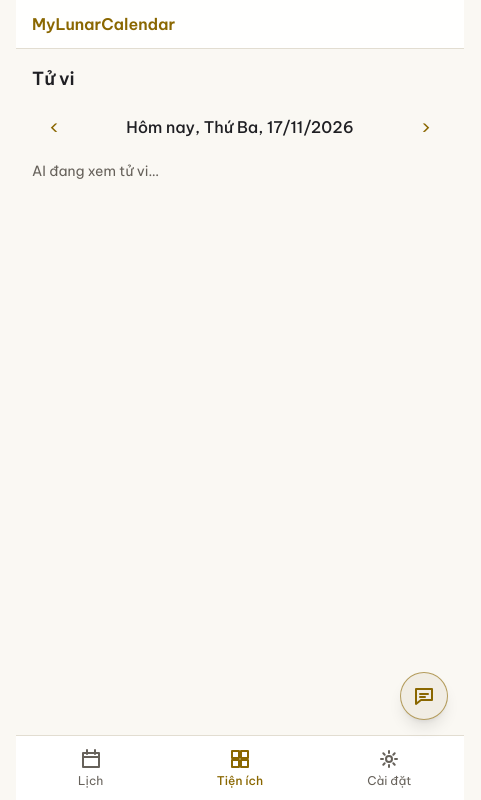
Test case: tab Tử vi (HORO-UC01) › kết quả về muộn của ngày cũ không ghi đè ngày đang xem (R-UI-02); lỗi có Thử lại
Click the button named "Ngày sau": (426, 127) [404,105,448,149]
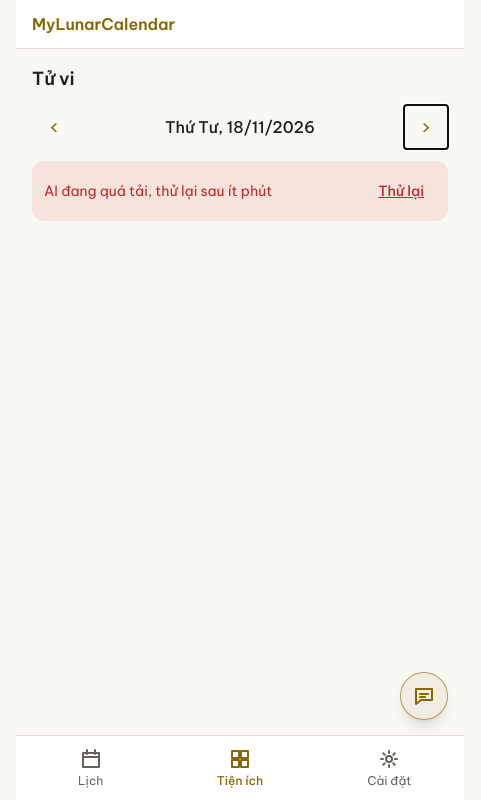
Result: the text "AI đang quá tải, thử lại sau ít phút" is shown at [44,181,272,201]
Click the button "Thử lại": (401, 191) [366,169,436,213]
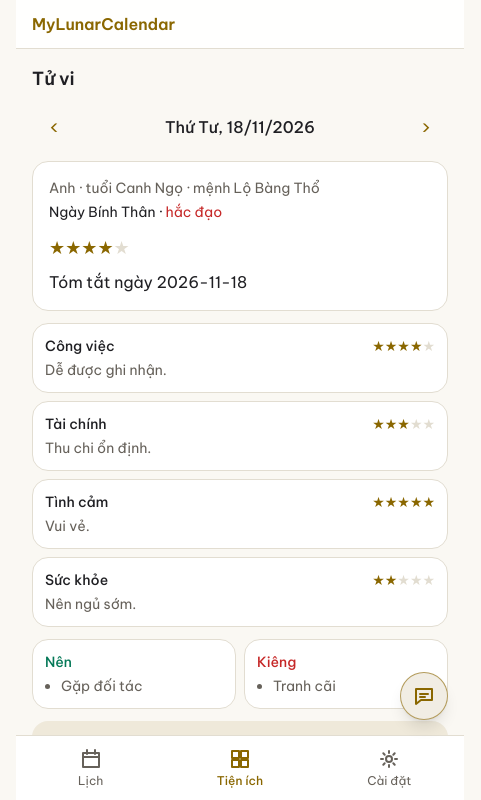
Result: the text "Tóm tắt ngày 2026-11-18" is shown at [49,272,247,292]
